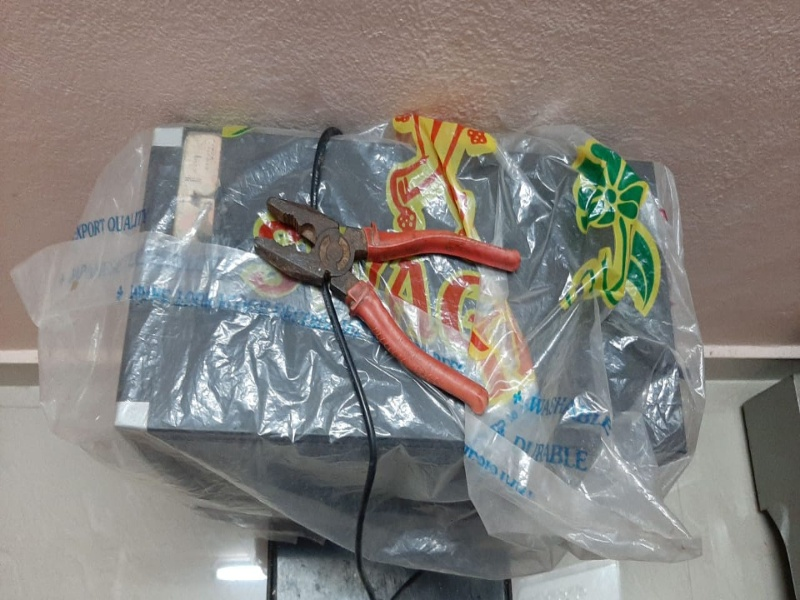cuttingplier: (258, 188, 526, 420)
